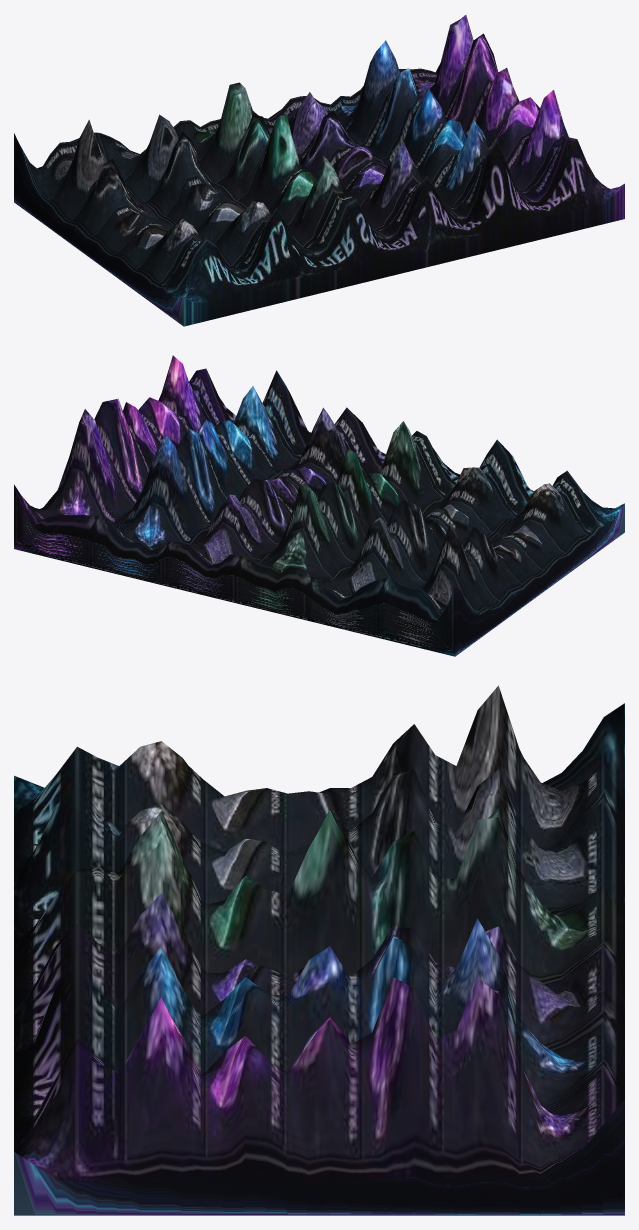
Rendered from MATERIAL_6Tier_Overview.glb.
The picture shows the model from 3 angles, top to bottom: view 1: azimuth 30°, elevation 25°; view 2: azimuth 150°, elevation 25°; view 3: azimuth 270°, elevation 25°; orthographic projection. The views are drawn at different scales.
Visible parts, largest first — view 1: MATERIAL_6Tier_Overview; view 2: MATERIAL_6Tier_Overview; view 3: MATERIAL_6Tier_Overview.
Boxes of the visible parts, x1,y1,x2,y2 form: MATERIAL_6Tier_Overview: [14, 15, 624, 326]; MATERIAL_6Tier_Overview: [14, 355, 624, 656]; MATERIAL_6Tier_Overview: [14, 685, 624, 1215].
Size of the model in its own units: 2 by 0.51 by 1.33.
Materials: 1 (1 with a texture image).
